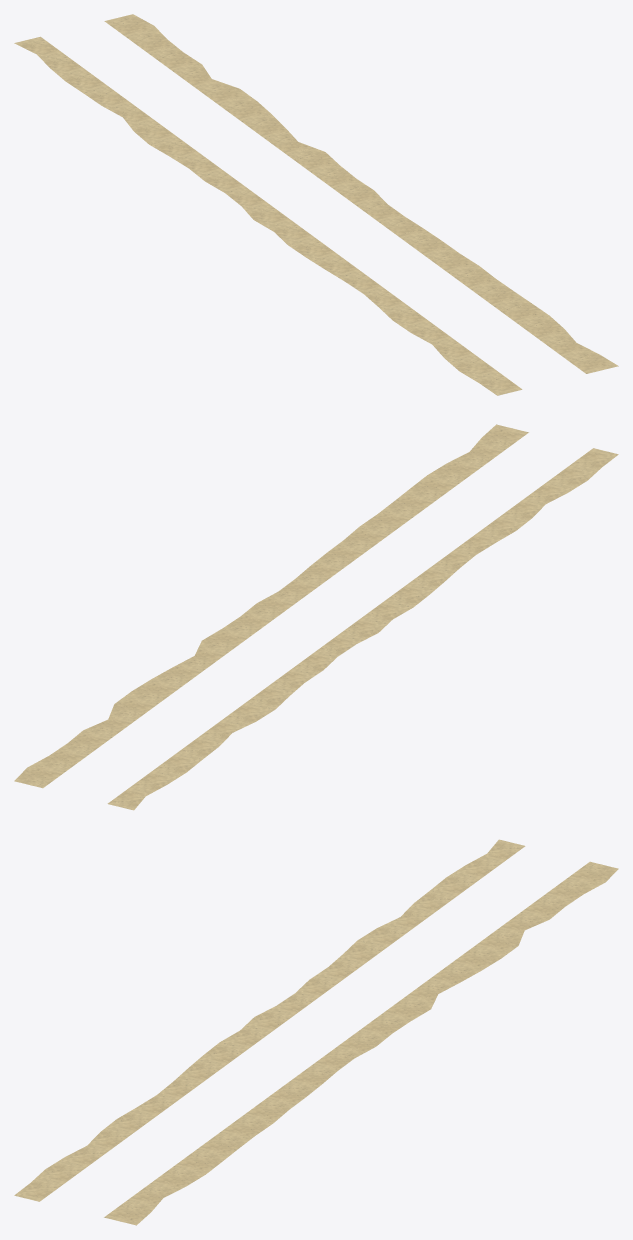
The model's file is riverBanks.glb.
3 views of the same model, one above another, from view 1: azimuth 30°, elevation 25°; view 2: azimuth 150°, elevation 25°; view 3: azimuth 330°, elevation 25° (orthographic).
Visible parts, largest first — view 1: riverBanks; view 2: riverBanks; view 3: riverBanks.
Part boxes in pixels (x1,y1,x2,y2): riverBanks: (14,14,618,395); riverBanks: (14,424,618,810); riverBanks: (14,839,618,1225).
Size of the model in its own units: 6.32 by 0 by 42.
Materials: 1 (1 with a texture image).
